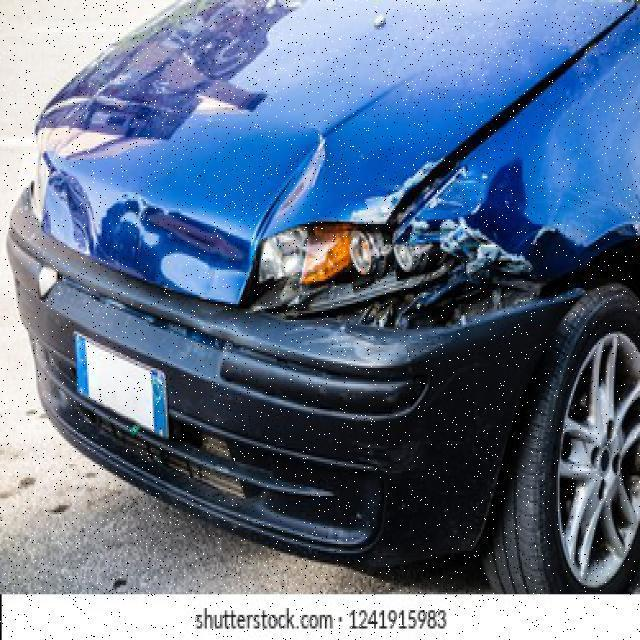Headlight-Damage: (252, 222, 468, 338)
bonnet-dent: (39, 0, 413, 309)
fender-dent: (426, 135, 638, 366)
